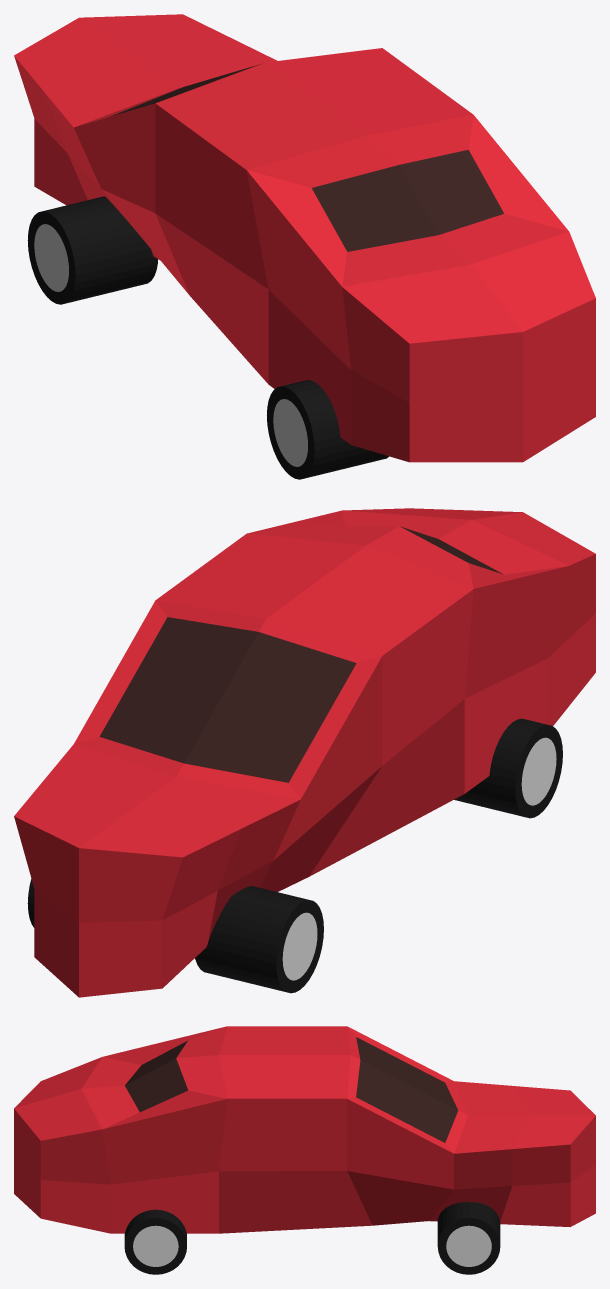
File: car_textured.gltf
3 views of the same model, one above another, from view 1: azimuth 30°, elevation 25°; view 2: azimuth 150°, elevation 25°; view 3: azimuth 270°, elevation 25° (orthographic). The views are drawn at different scales.
Visible parts, largest first — view 1: Car, Wheels; view 2: Car, Wheels; view 3: Car, Wheels.
Part boxes in pixels (x1=…): Car: x1=14, y1=14, x2=595, y2=462; Wheels: x1=27, y1=196, x2=388, y2=479; Car: x1=14, y1=508, x2=595, y2=997; Wheels: x1=27, y1=718, x2=562, y2=993; Car: x1=14, y1=1026, x2=595, y2=1233; Wheels: x1=124, y1=1202, x2=500, y2=1274.
Size of the model in its own units: 3 by 3.17 by 9.29.
